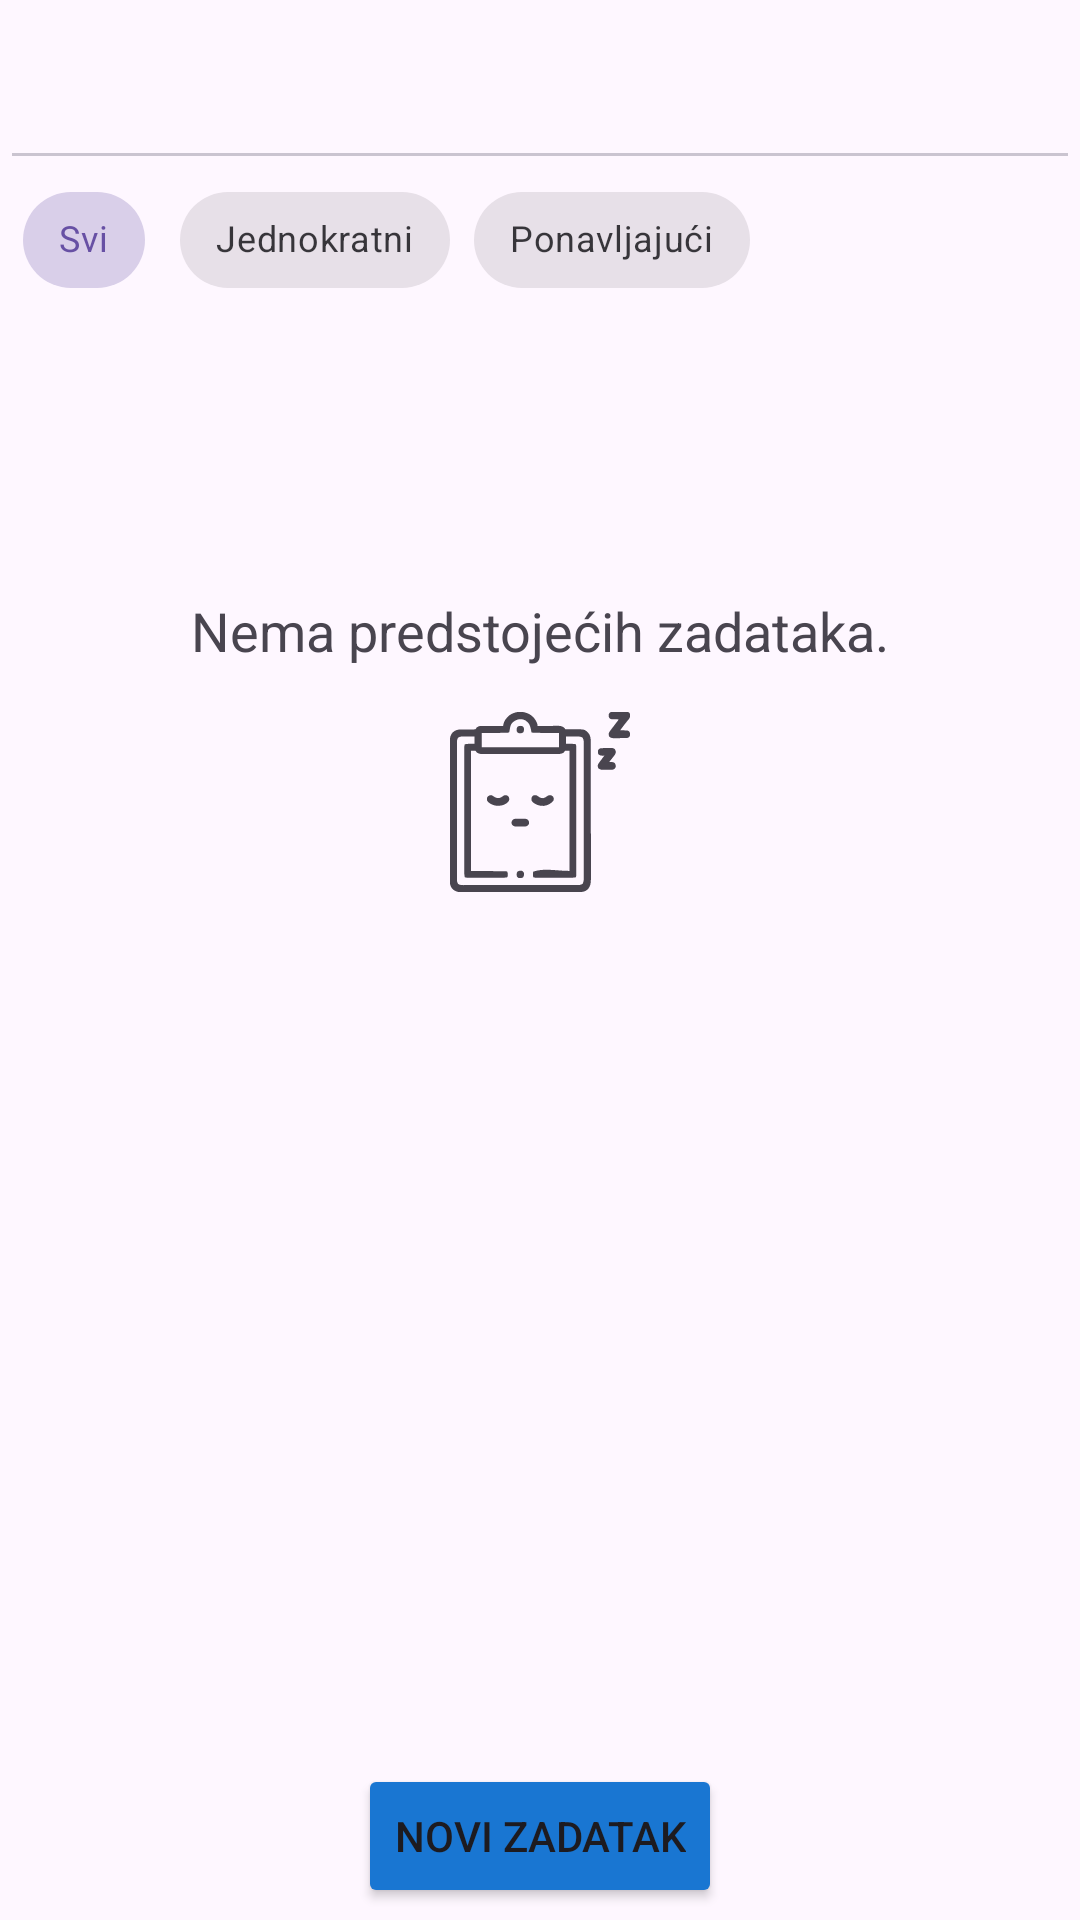

Screen size 1080 × 1920. Icon name, then its center in pixels as point (x, y):
no tasks: point (540, 802)
